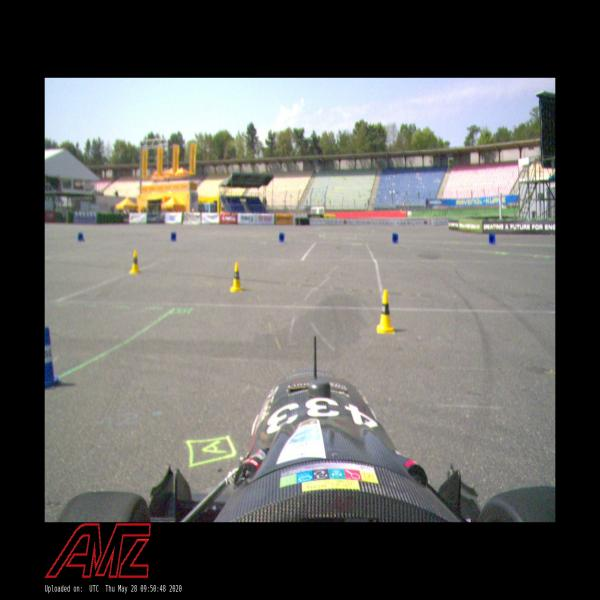blue_cone: (44, 326, 60, 390), (76, 232, 86, 244)
yellow_cone: (375, 286, 397, 335), (229, 262, 243, 292), (129, 250, 141, 276)
